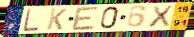0: (99, 6, 120, 30)
6: (126, 4, 148, 31)
E: (70, 6, 100, 32)
K: (45, 8, 68, 31)
L: (22, 8, 40, 32)
X: (147, 5, 174, 29)
